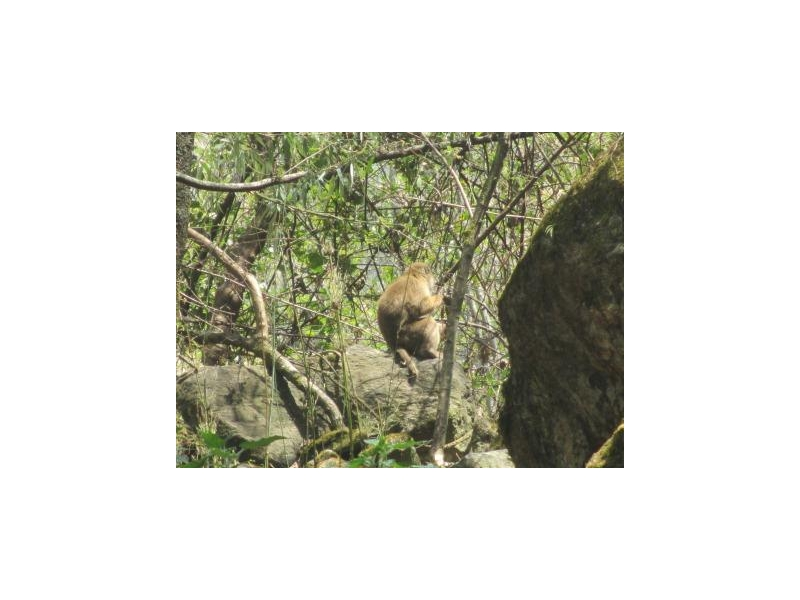monkey: (372, 254, 456, 385)
